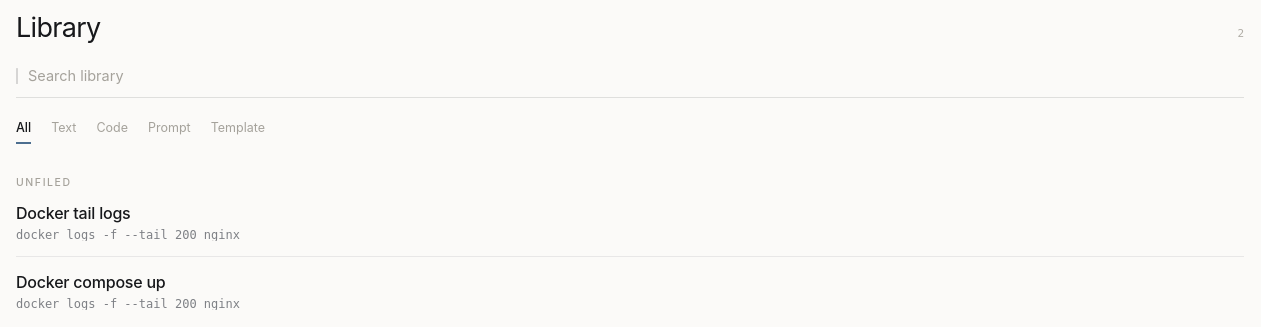
Scenario: mobile LibraryPage › names the query in the no-results state and can clear it
Check: the text "Docker tail logs" is shown, box [16,203,130,223]
In the search field labelled "Search library": (636, 76) [28,67,1244,84], type "zzz"
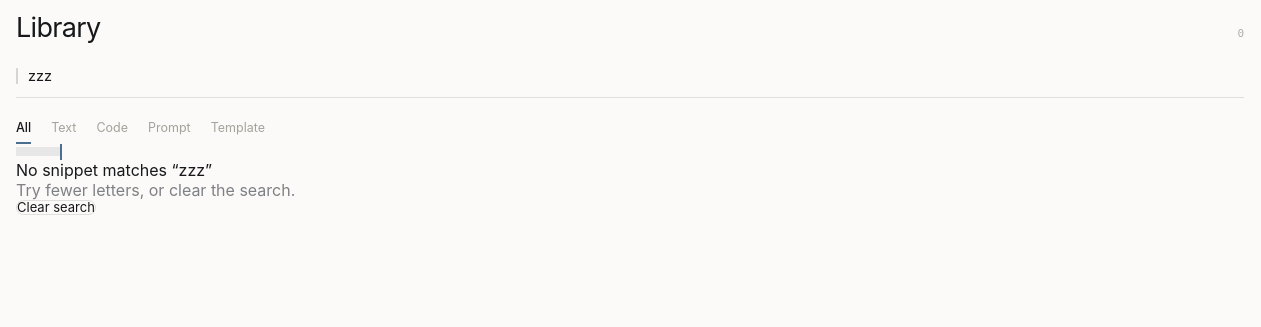
Check: the text "No snippet matches “zzz”" is shown, box [16,160,212,180]
Click the button "Clear search": (56, 207) [16,200,96,215]
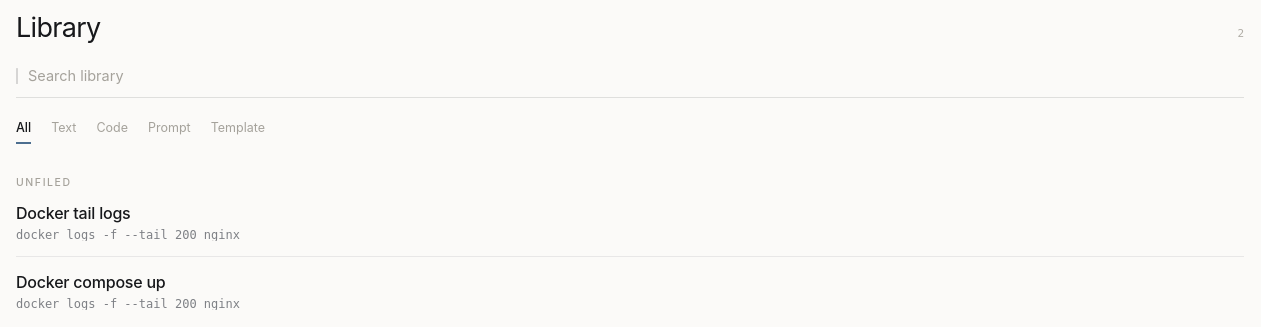
Check: the text "Docker tail logs" is shown, box [16,203,130,223]
